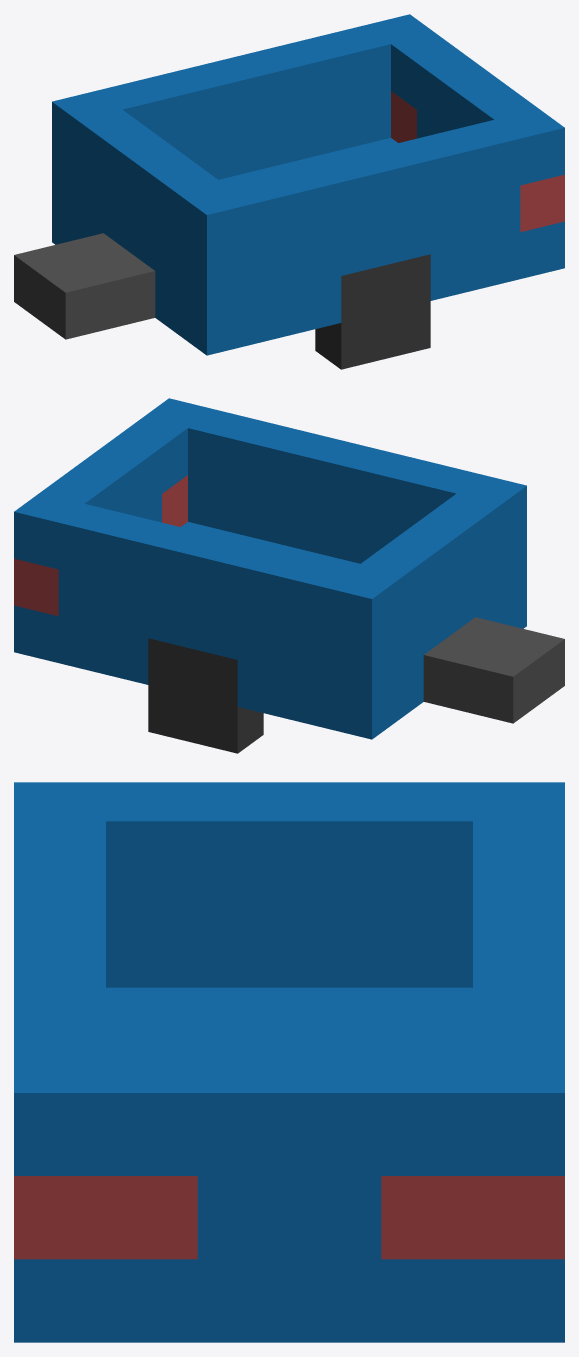
The model's file is car-trailer-v1-blue.gltf.
The picture shows the model from 3 angles, top to bottom: view 1: azimuth 30°, elevation 25°; view 2: azimuth 150°, elevation 25°; view 3: azimuth 270°, elevation 25°; orthographic projection. The views are drawn at different scales.
Parts seen in each view (by area): view 1: model, wheels; view 2: model, wheels; view 3: model.
Part boxes in pixels (x1,y1,x2,y2): model: [14, 14, 564, 355]; wheels: [315, 254, 430, 369]; model: [14, 398, 564, 739]; wheels: [148, 638, 263, 753]; model: [14, 782, 564, 1342].
Bounding box in the file's own units: 1 × 0.4 × 0.6.
Materials: 2 (2 with a texture image).
